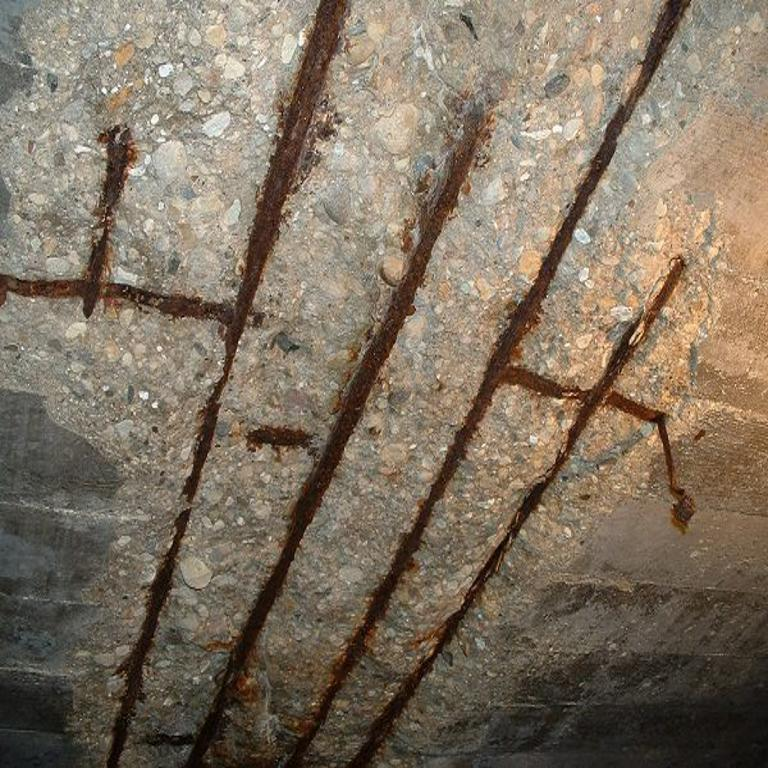exposed_rebar: (285, 0, 694, 768), (184, 102, 490, 767), (0, 0, 348, 503), (106, 508, 190, 768), (246, 426, 314, 448), (146, 730, 195, 746)
spalling: (0, 0, 765, 768)
